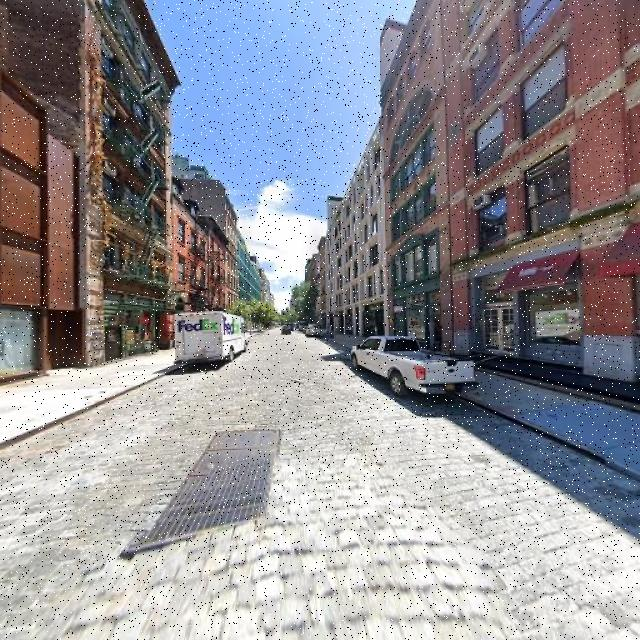Building: (449, 1, 640, 379), (87, 1, 172, 358), (1, 75, 82, 374), (388, 1, 445, 345)
